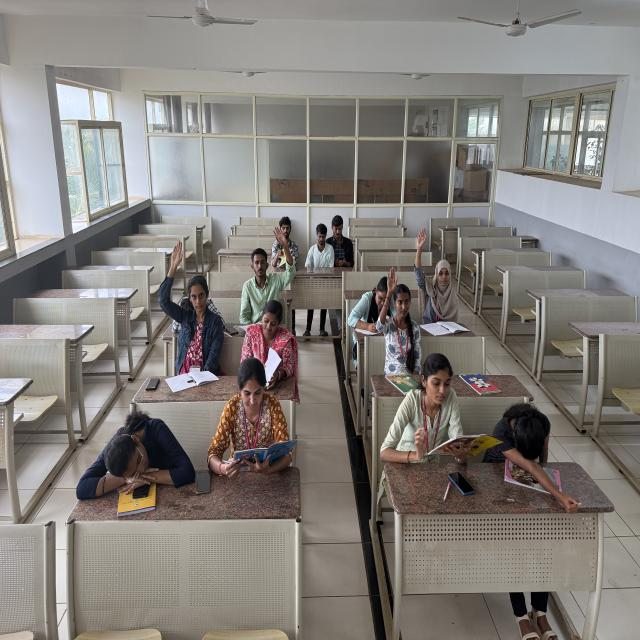Hand Rising: (147, 230, 227, 382), (404, 216, 480, 332), (236, 222, 304, 321), (376, 264, 424, 383)
Reading: (370, 346, 498, 469), (204, 353, 304, 500)
Sleeping: (78, 396, 201, 542), (480, 391, 592, 532)
Using Phone: (330, 207, 366, 277)
